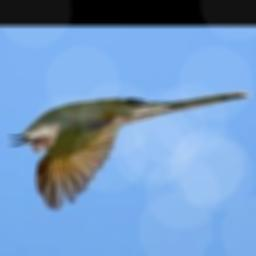Cuckoo: (8, 92, 250, 211)
